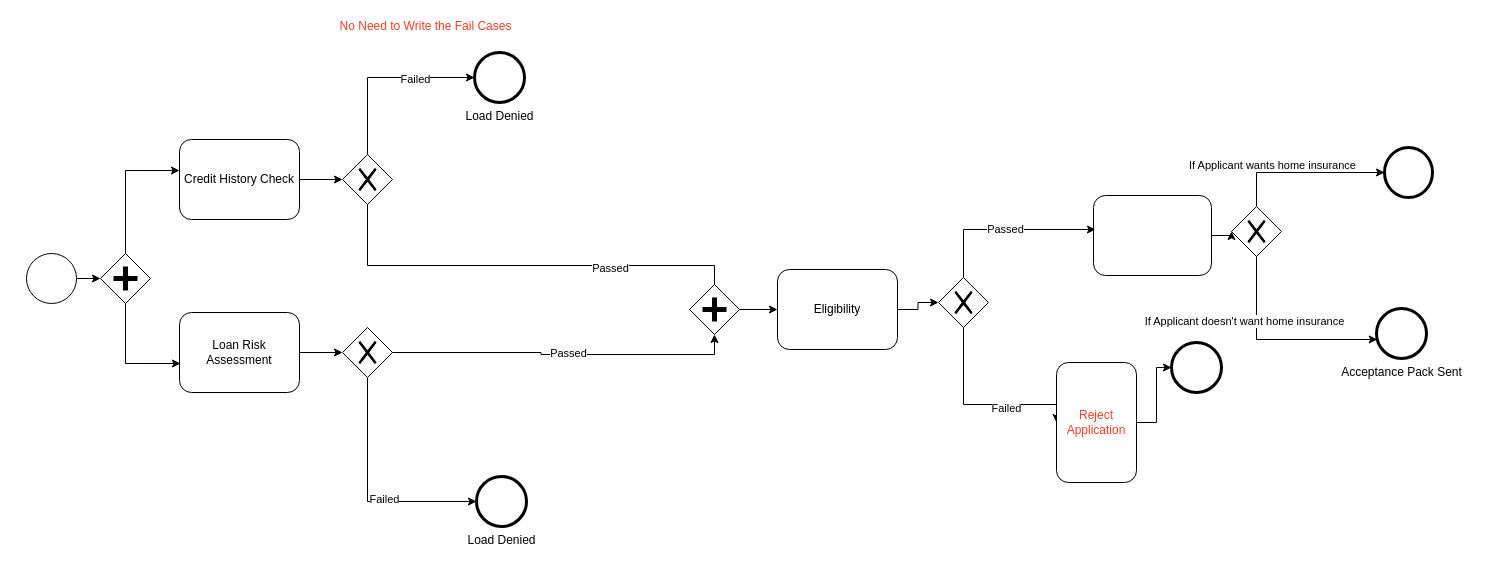
Some shapes in this 1502 by 564 pixel diagram are drawn without their labels. Here are the shapes that lost their labels. From the top down, the centre of each, then its label:
[1408,172]: Home Insurance Quota Sent
[1152,235]: Load Approved
[51,278]: Loan Applied
[1196,367]: Load Rejected
